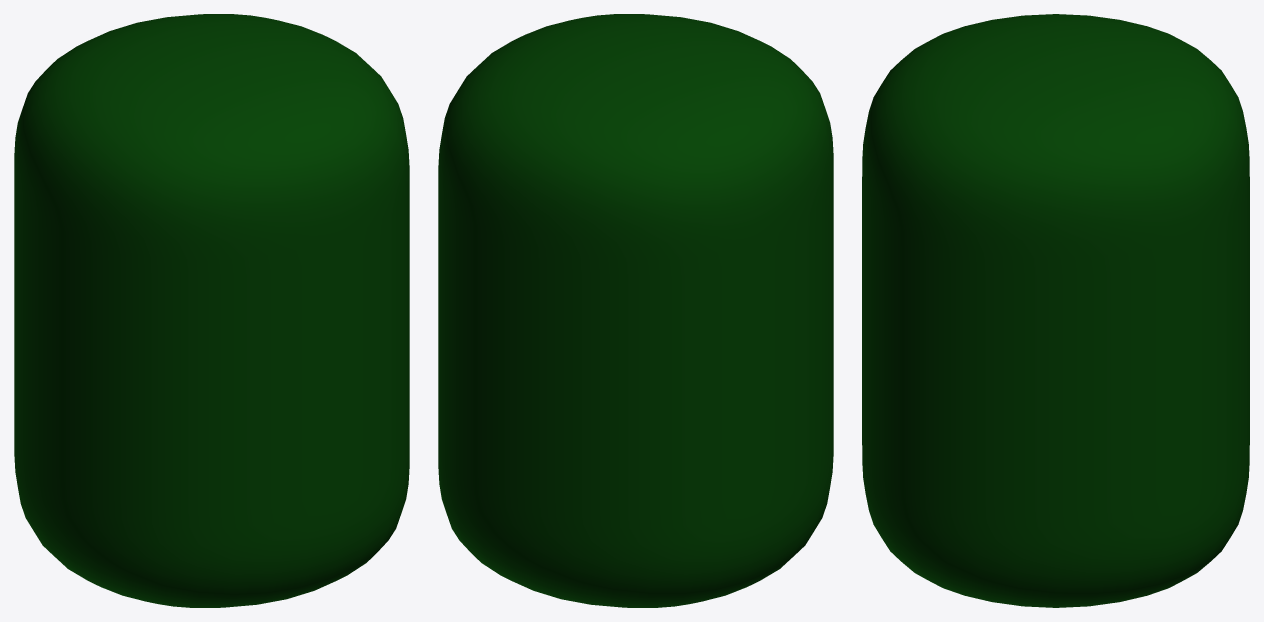
The model's file is punch-target-green.glb.
3 renders of one model, left to right at view 1: azimuth 30°, elevation 25°; view 2: azimuth 150°, elevation 25°; view 3: azimuth 270°, elevation 25°, orthographic.
Parts seen in each view (by area): view 1: Cube; view 2: Cube; view 3: Cube.
Boxes of the visible parts, left/top/right/bottom form: Cube: left=14, top=14, right=409, bottom=607; Cube: left=438, top=14, right=833, bottom=607; Cube: left=862, top=14, right=1249, bottom=607.
Bounding box in the file's own units: 0.2292 × 0.336 × 0.2292.
